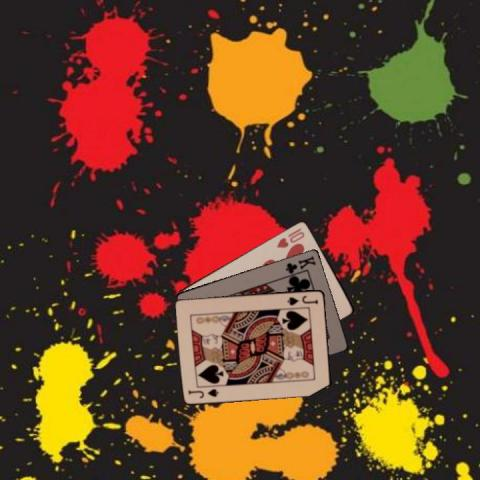10h: (273, 225, 306, 249)
Js: (284, 292, 319, 307), (185, 386, 221, 400)
Kc: (283, 253, 317, 274)
